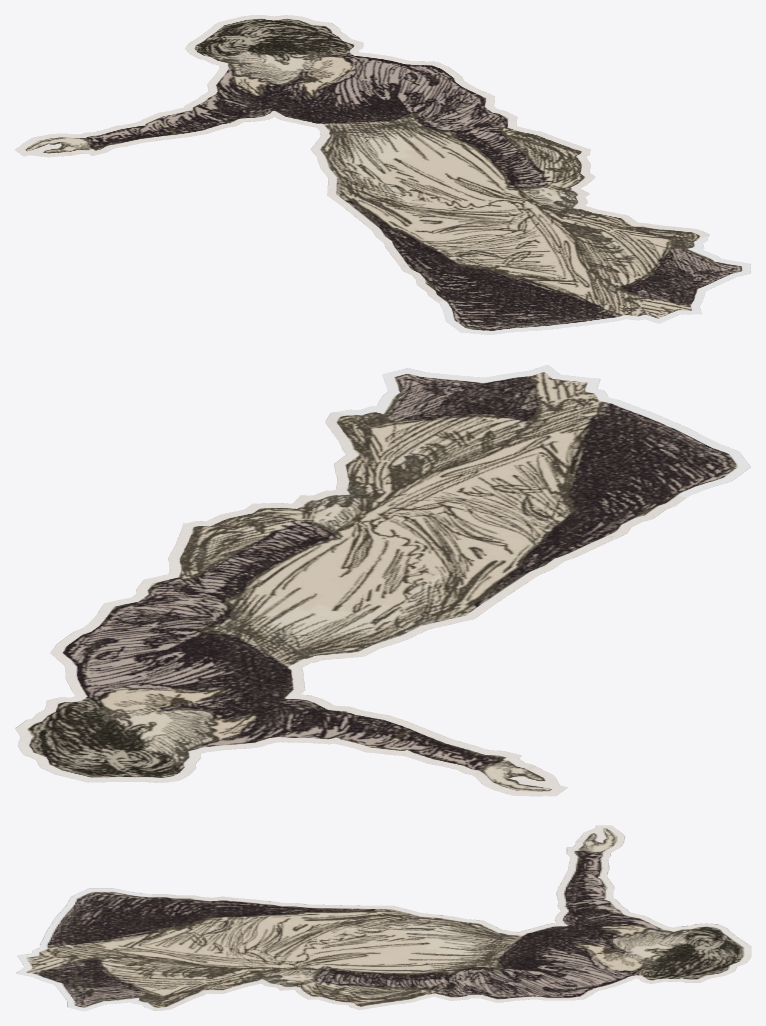
File: Prudence.fbx
The picture shows the model from 3 angles, top to bottom: view 1: azimuth 30°, elevation 25°; view 2: azimuth 150°, elevation 25°; view 3: azimuth 270°, elevation 25°; orthographic projection. The views are drawn at different scales.
Parts seen in each view (by area): view 1: BézierCurve; view 2: BézierCurve; view 3: BézierCurve.
Boxes of the visible parts, x1,y1,x2,y2 form: BézierCurve: [14, 15, 750, 334]; BézierCurve: [15, 365, 750, 796]; BézierCurve: [15, 825, 751, 1011].
Bounding box in the file's own units: 299 × 8.14e-05 × 500.
1 material, 1 textured.
